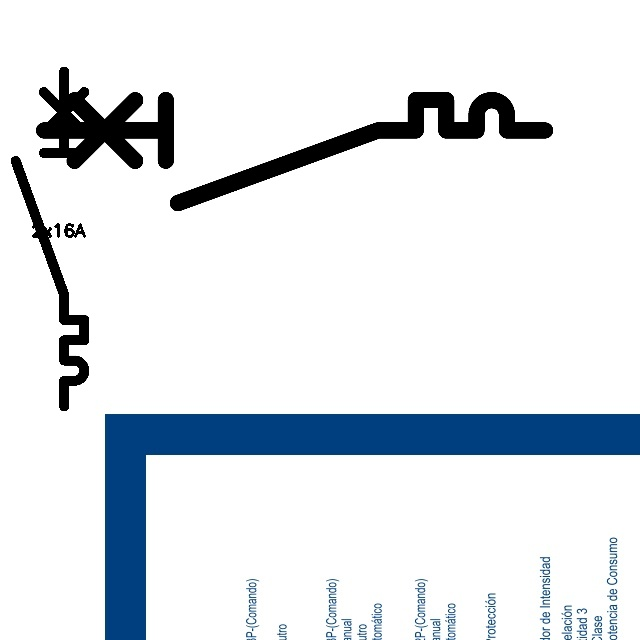interruptor_termomagnetico: (31, 87, 558, 216), (7, 63, 93, 415)
